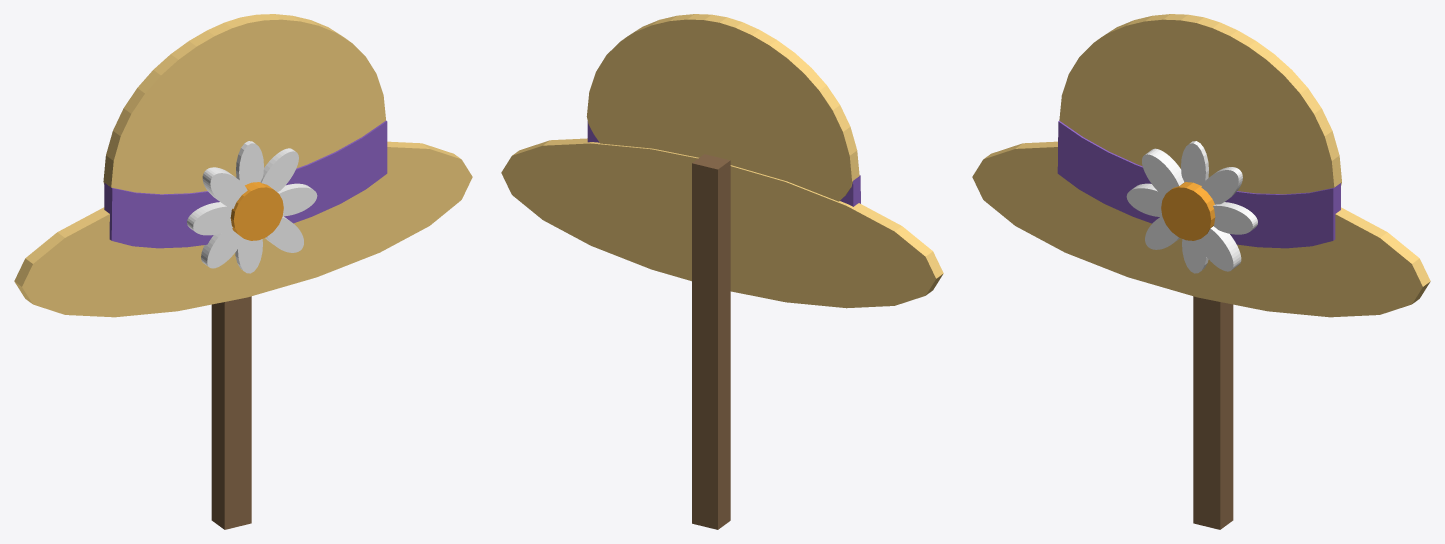
The model's file is chapeau.glb.
The picture shows the model from 3 angles, left to right: view 1: azimuth 30°, elevation 25°; view 2: azimuth 150°, elevation 25°; view 3: azimuth 330°, elevation 25°; orthographic projection. The views are drawn at different scales.
Bounding box in the file's own units: 1 × 1.08 × 0.129.
